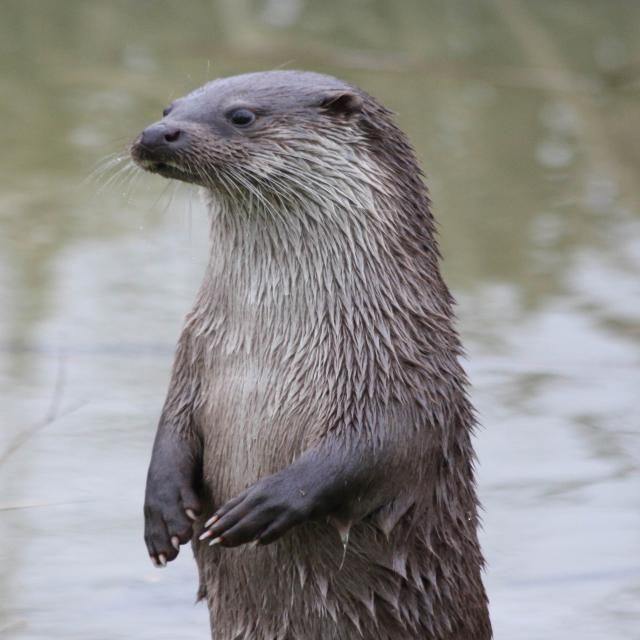otter: (136, 70, 492, 640)
